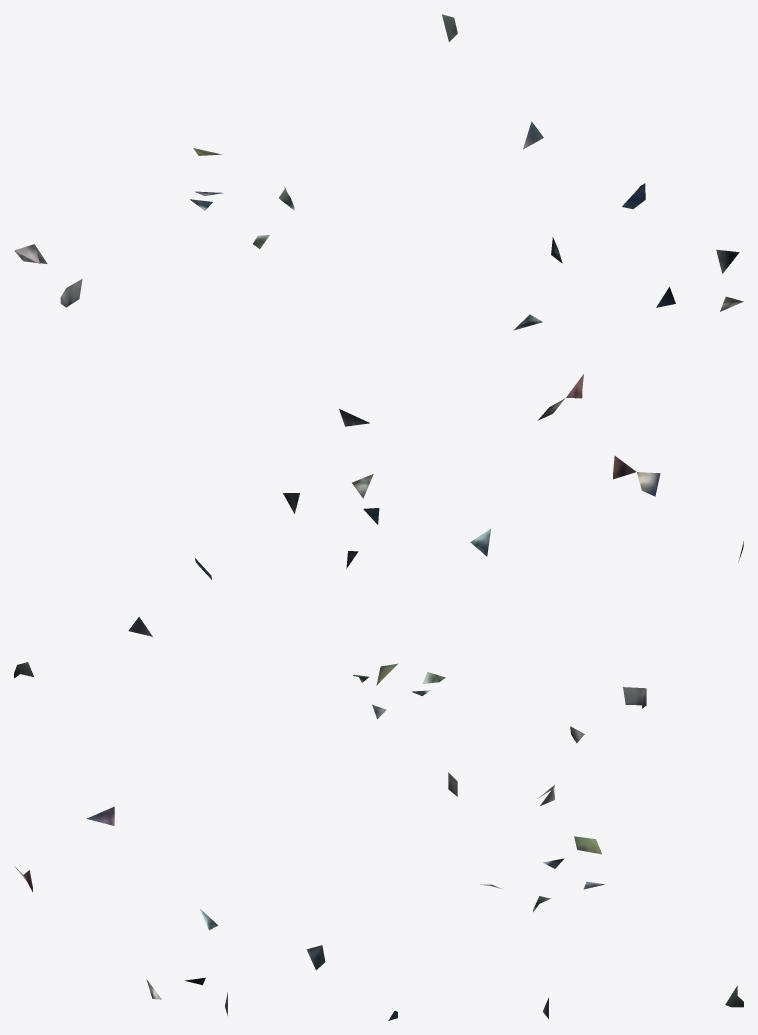
3 views of the same model, one above another, from view 1: azimuth 30°, elevation 25°; view 2: azimuth 150°, elevation 25°; view 3: azimuth 270°, elevation 25° (orthographic). The views are drawn at different scales.
Parts seen in each view (by area): view 1: 304362727043615267_1; view 2: 304362727043615267_1; view 3: 304362727043615267_1.
Boxes of the visible parts, left/top/right/bottom form: 304362727043615267_1: left=14, top=14, right=743, bottom=426; 304362727043615267_1: left=14, top=456, right=743, bottom=743; 304362727043615267_1: left=14, top=772, right=743, bottom=1020.
Bounding box in the file's own units: 109 × 10.48 × 143.
1 material, 1 textured.
